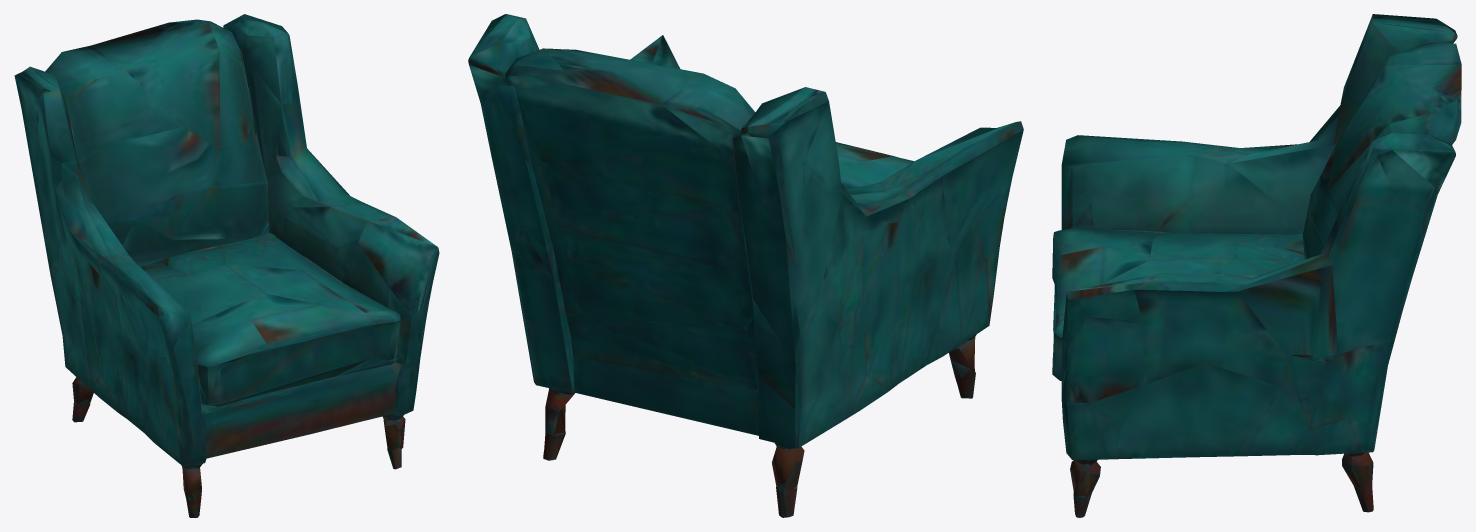
Rendered from armchair.lod1.glb.
3 views of the same model, side by side, from view 1: azimuth 30°, elevation 25°; view 2: azimuth 150°, elevation 25°; view 3: azimuth 270°, elevation 25° (orthographic). The views are drawn at different scales.
Bounding box in the file's own units: 0.8941 × 1.04 × 1.
Materials: 1 (1 with a texture image).
